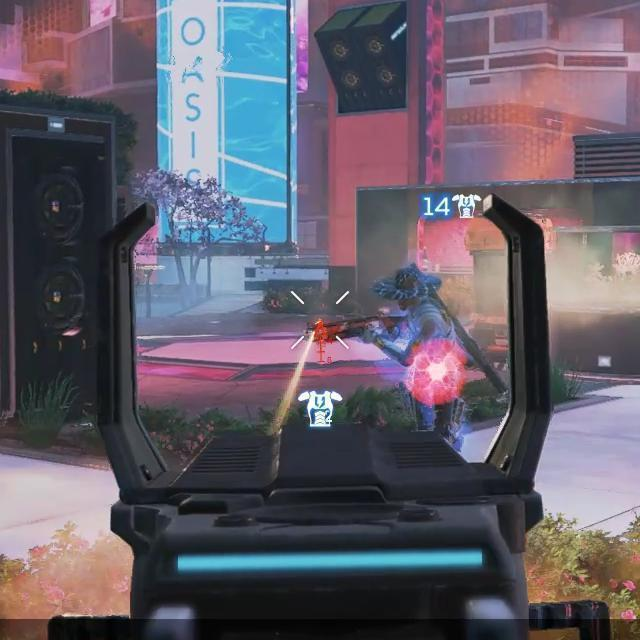avatar: (370, 263, 471, 437)
object: (401, 338, 467, 406)
